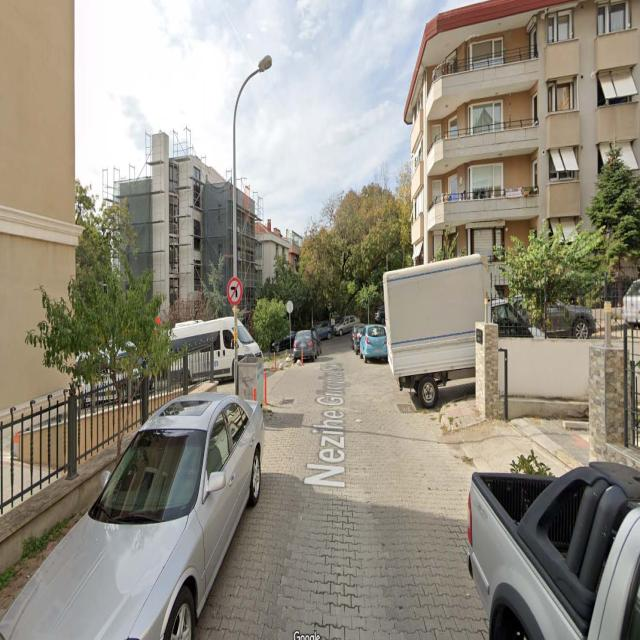soladonulmez: (227, 277, 243, 306)
